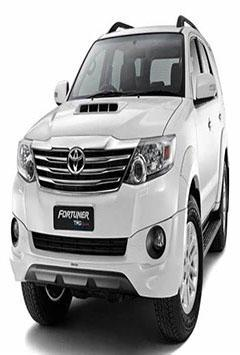car: (0, 2, 240, 346)
